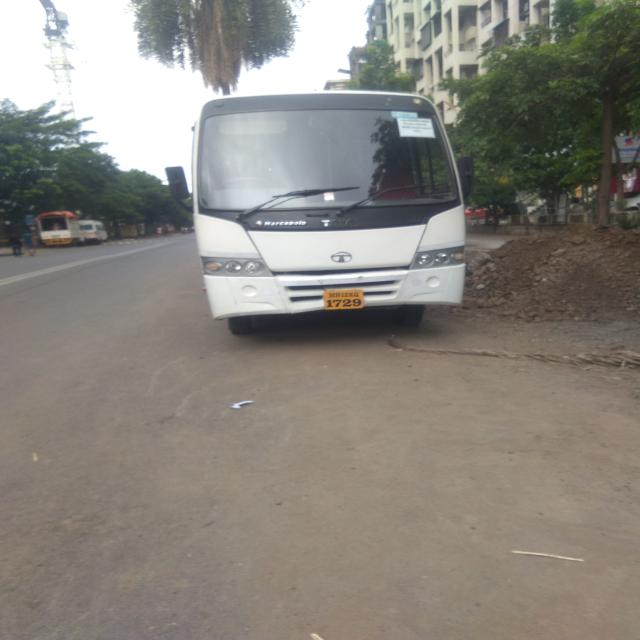Bus: (184, 87, 473, 337)
Car: (464, 203, 510, 219)
Traveller: (77, 220, 115, 244)
Truck: (36, 210, 81, 247)
